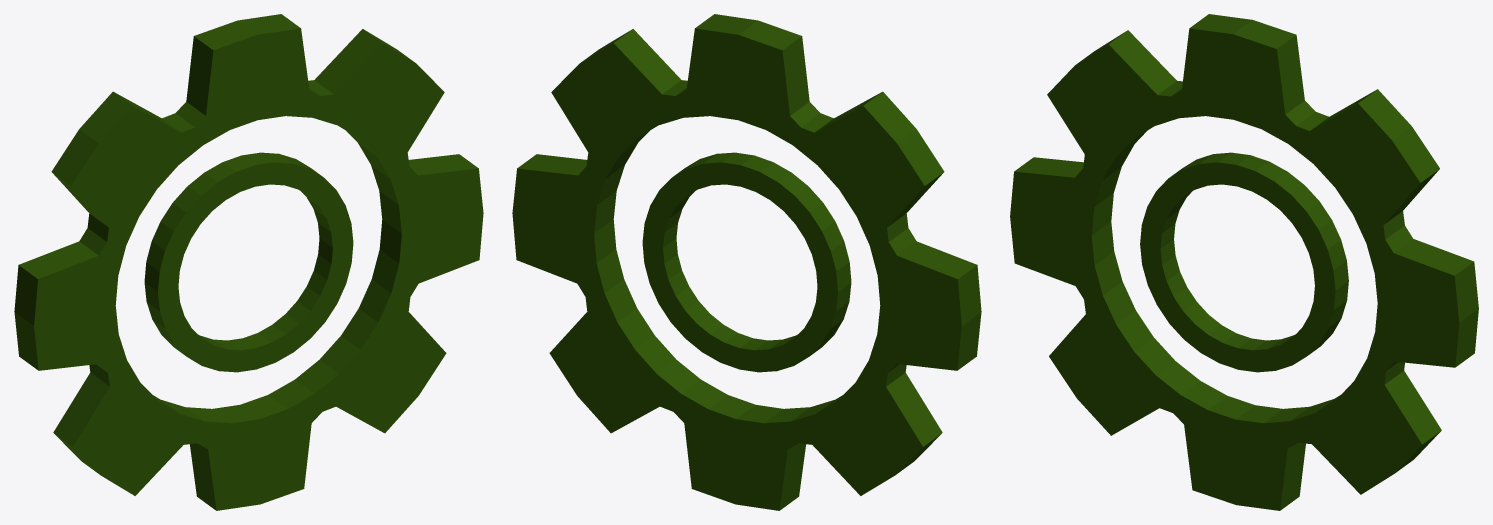
The model's file is Long.fbx.
3 renders of one model, left to right at view 1: azimuth 30°, elevation 25°; view 2: azimuth 150°, elevation 25°; view 3: azimuth 330°, elevation 25°, orthographic.
Visible parts, largest first — view 1: Circle; view 2: Circle; view 3: Circle.
Part boxes in pixels (x1,y1,x2,y2): Circle: [14, 14, 483, 510]; Circle: [512, 14, 981, 510]; Circle: [1010, 14, 1478, 510].
Bounding box in the file's own units: 293 × 293 × 22.18.
